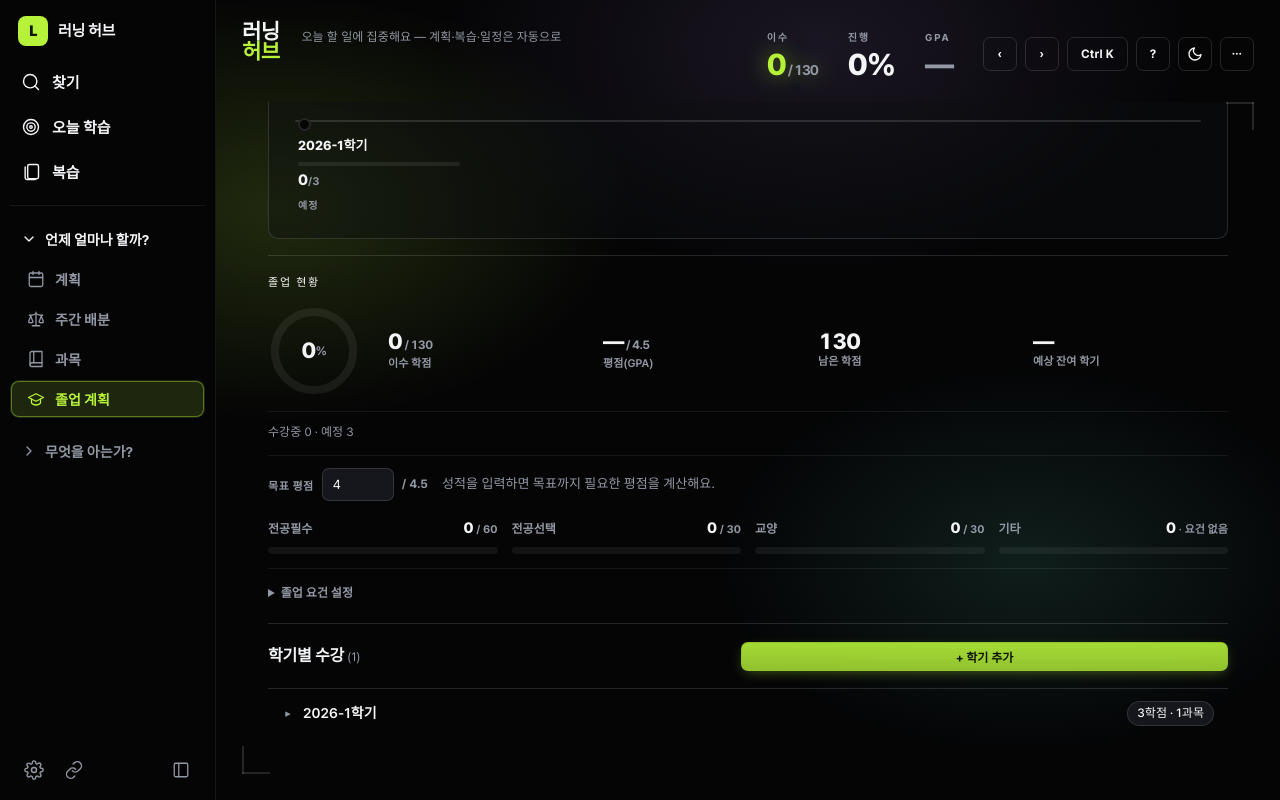
Scenario: 과목마다 있던 상태 셀렉트가 사라지고, 학기 셀렉트 하나가 그 자리를 진다
(page scrolled)
Step 1. Click the text with class "ds-itemname" → click(340, 713), box x1=303 y1=705 x2=377 y2=721
(page scrolled)
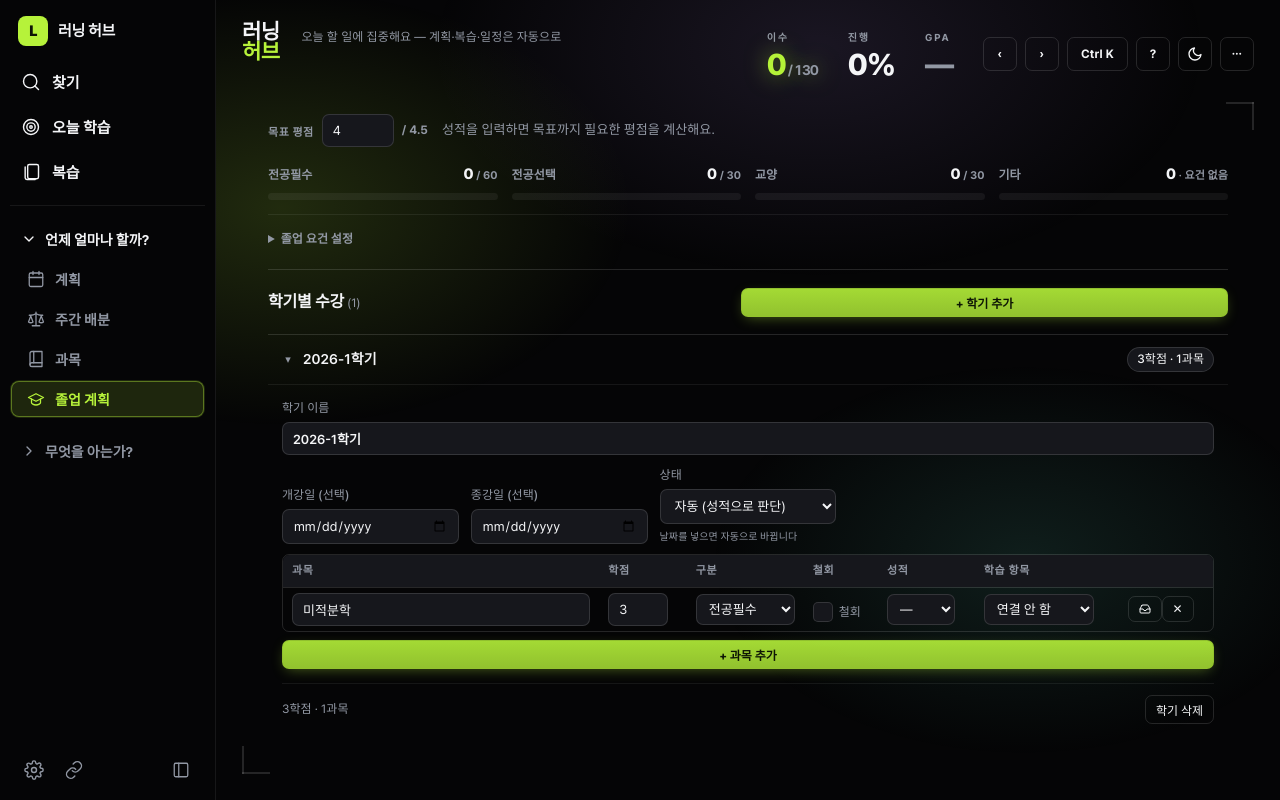
Now the number field named "학점" is shown, box x1=608 y1=593 x2=668 y2=626
Now the dropdown labelled "상태" is enabled, box x1=660 y1=489 x2=836 y2=524
Now the dropdown labelled "상태" shows "자동 (성적으로 판단)", box x1=660 y1=489 x2=836 y2=524
